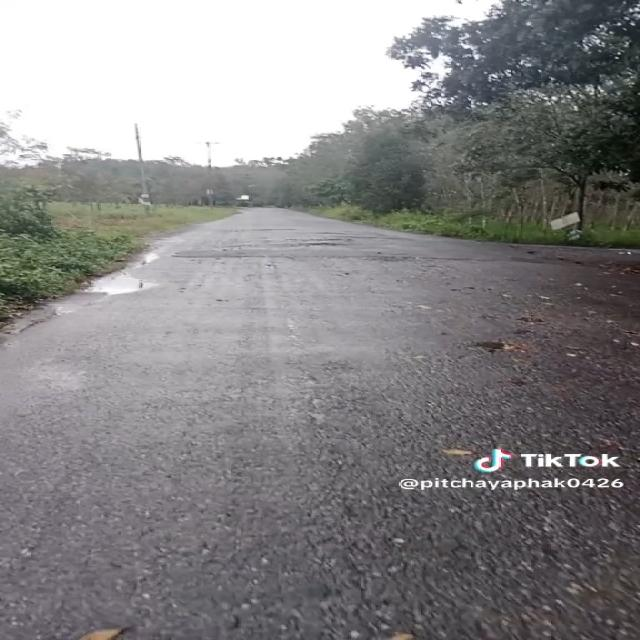Poth-hole: (427, 309, 533, 370)
